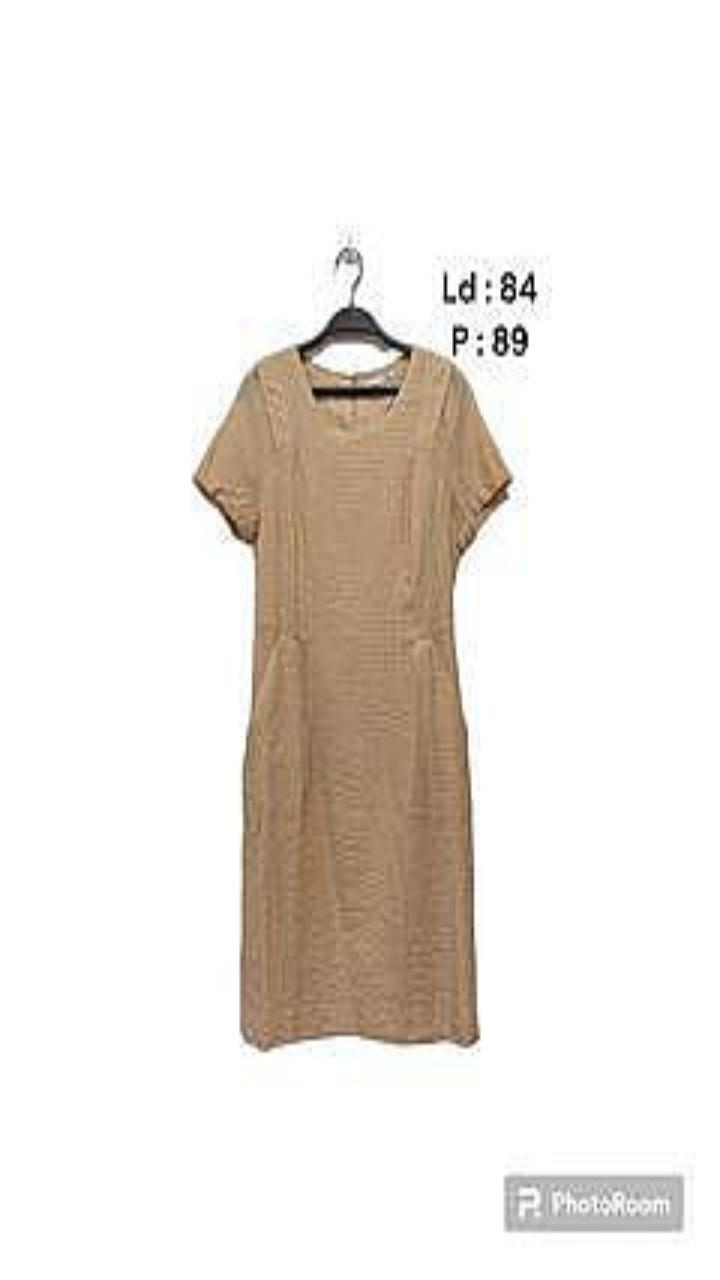Dresses: (193, 346, 511, 1048)
